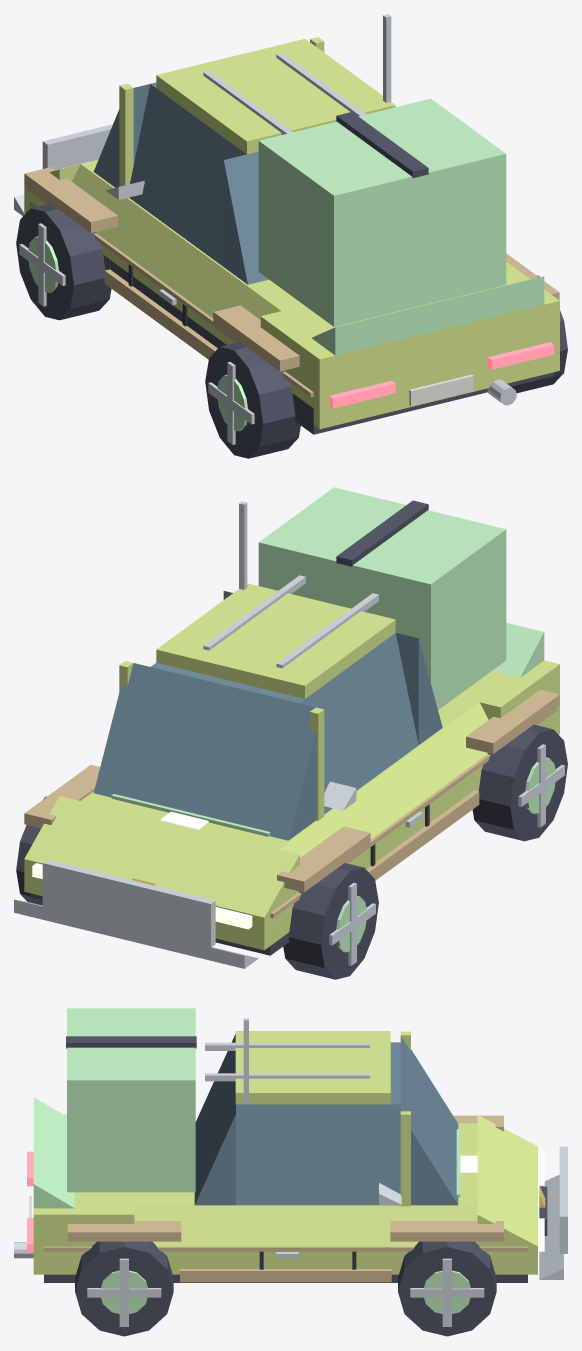
The model's file is brickhouse_bus.glb.
The picture shows the model from 3 angles, top to bottom: view 1: azimuth 30°, elevation 25°; view 2: azimuth 150°, elevation 25°; view 3: azimuth 270°, elevation 25°; orthographic projection. The views are drawn at different scales.
Visible parts, largest first — view 1: CourierBox.014, Roof.248, Tail.048, CabinSideL.045, ShoulderL.045, Body.248, Wheel_RL.208, Ducktail.034, Wheel_FL.208, RearWindow.148, Arch-1False.124, Sill.244 (+19 smaller); view 2: CourierBox.014, Windshield.148, Nose.045, Roof.248, CabinSideL.045, Bullbar.023, ShoulderL.045, Wheel_FL.208, Wheel_RL.208, Body.248, Bumper.244, Tail.048 (+20 smaller); view 3: CourierBox.014, CabinSideR.045, ShoulderR.045, Roof.248, Nose.045, Body.248, Windshield.148, Wheel_FR.208, Wheel_RR.208, RearWindow.148, Ducktail.034, Tail.048 (+21 smaller).
Boxes of the visible parts, x1,y1,x2,y2 form: CourierBox.014: (258,98,506,326); Roof.248: (156,39,395,154); Tail.048: (260,262,559,396); CabinSideL.045: (129,84,246,266); ShoulderL.045: (72,164,280,319); Body.248: (24,185,559,429); Wheel_RL.208: (205,342,300,458); Ducktail.034: (311,276,544,355); Wheel_FL.208: (16,203,111,320); RearWindow.148: (223,151,268,284); Arch-1False.124: (24,167,117,232); Sill.244: (30,202,553,434); CourierBox.014: (258,487,506,709); Windshield.148: (93,663,316,840); Nose.045: (24,796,299,917); Roof.248: (156,583,395,698); CabinSideL.045: (299,633,418,813); Bullbar.023: (42,859,215,947); ShoulderL.045: (279,702,488,857); Wheel_FL.208: (283,863,378,979); Wheel_RL.208: (472,724,567,841); Body.248: (24,701,559,950); Bumper.244: (14,899,258,968); Tail.048: (457,660,559,719); CourierBox.014: (67,1008,195,1192); CabinSideR.045: (236,1104,400,1205); ShoulderR.045: (134,1206,477,1246); Roof.248: (235,1031,390,1104); Nose.045: (477,1115,537,1246); Body.248: (33,1246,537,1274); Windshield.148: (400,1035,458,1205); Wheel_FR.208: (398,1241,496,1336); Wheel_RR.208: (75,1241,173,1336); RearWindow.148: (194,1034,235,1205); Ducktail.034: (33,1097,74,1208); Tail.048: (33,1114,134,1246).
Bounding box in the file's own units: 3 × 3.04 × 5.38.
